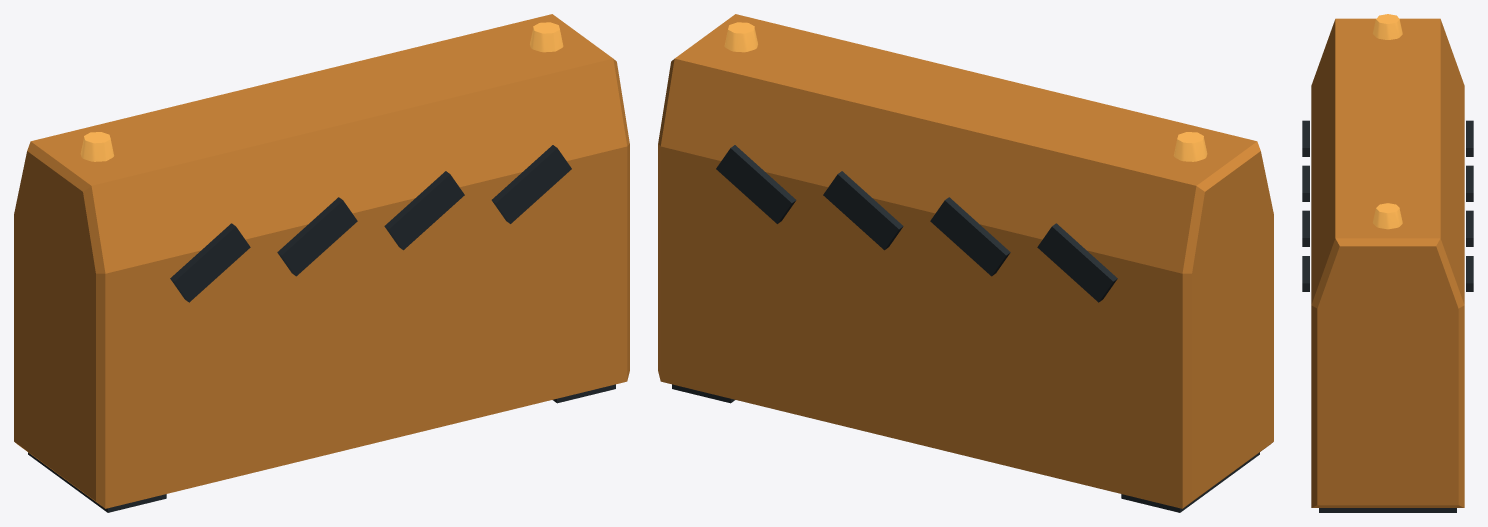
The model's file is prop-roadwork.glb.
3 renders of one model, left to right at view 1: azimuth 30°, elevation 25°; view 2: azimuth 150°, elevation 25°; view 3: azimuth 270°, elevation 25°, orthographic. The views are drawn at different scales.
Parts seen in each view (by area): view 1: roadwork / Material_0, roadwork / Material_1, roadwork / Material_2; view 2: roadwork / Material_0, roadwork / Material_1, roadwork / Material_2; view 3: roadwork / Material_0, roadwork / Material_1, roadwork / Material_2.
Boxes of the visible parts, x1,y1,x2,y2 form: roadwork / Material_0: (14,14,629,508); roadwork / Material_1: (28,145,615,512); roadwork / Material_2: (80,22,563,161); roadwork / Material_0: (658,14,1273,508); roadwork / Material_1: (672,145,1259,512); roadwork / Material_2: (724,22,1207,161); roadwork / Material_0: (1311,18,1464,507); roadwork / Material_1: (1302,120,1473,512); roadwork / Material_2: (1372,14,1402,229).
Size of the model in its own units: 3.09 by 1.88 by 0.995.
